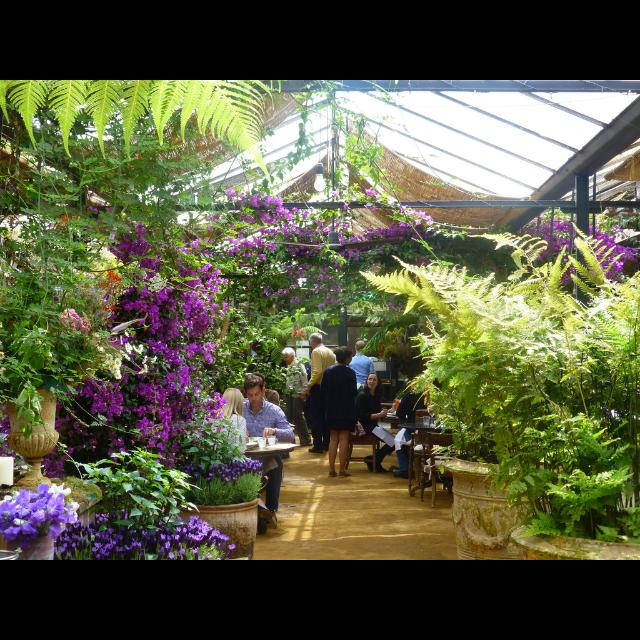Flower: (1, 188, 443, 484), (53, 506, 237, 560), (519, 212, 639, 286), (0, 482, 80, 548), (178, 375, 190, 387), (115, 358, 121, 367)
